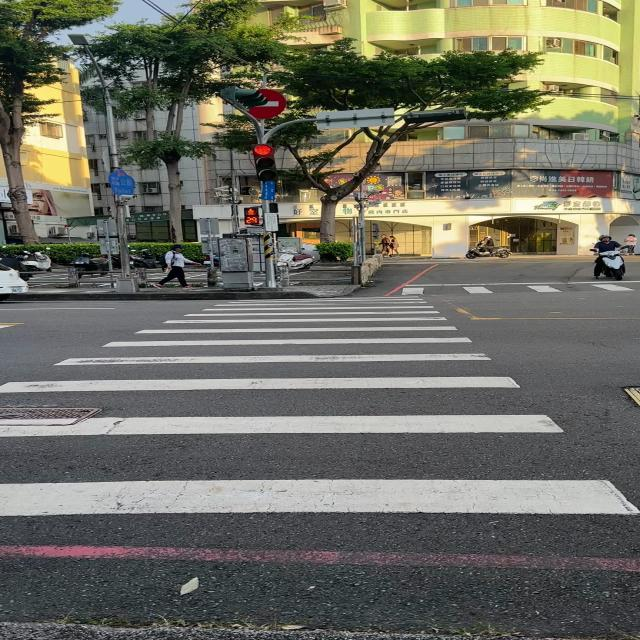car: (0, 265, 29, 301)
crosswalk: (0, 295, 640, 517), (397, 283, 639, 295)
motocycle: (465, 235, 510, 259), (598, 250, 624, 279)
pedestrian: (154, 245, 194, 290), (622, 234, 638, 255), (379, 235, 390, 255), (389, 236, 399, 256)
